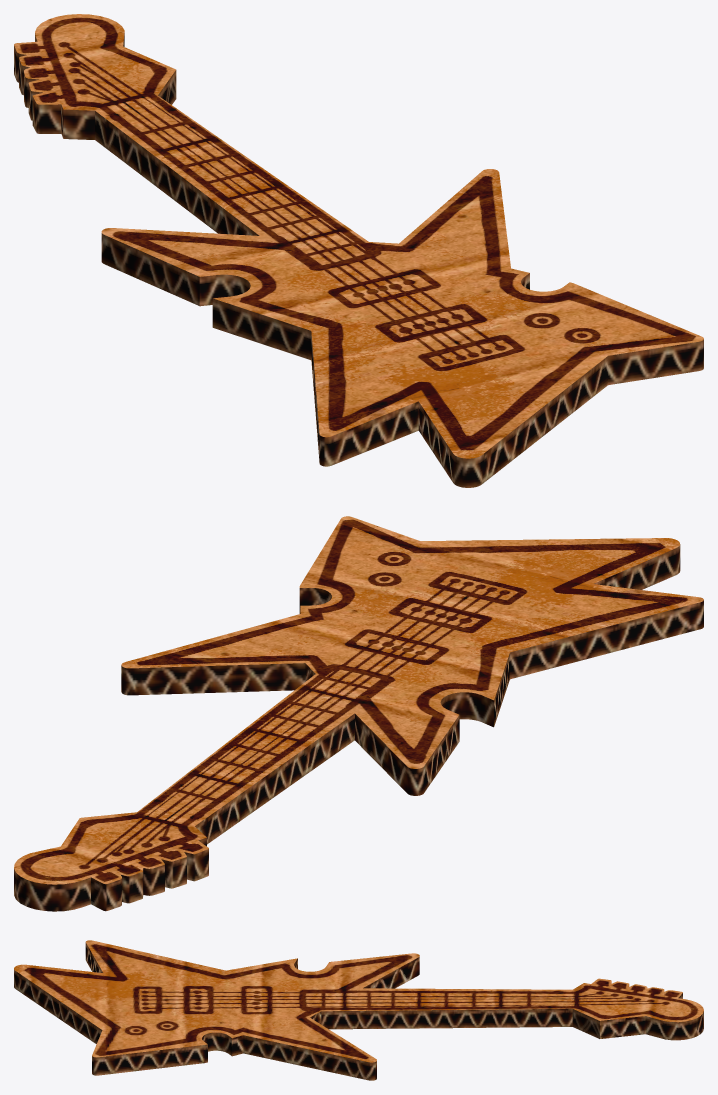
Rendered from guitar_01 (2).fbx.
3 views of the same model, one above another, from view 1: azimuth 30°, elevation 25°; view 2: azimuth 150°, elevation 25°; view 3: azimuth 270°, elevation 25° (orthographic). The views are drawn at different scales.
Visible parts, largest first — view 1: Extruded.001; view 2: Extruded.001; view 3: Extruded.001.
Boxes of the visible parts, bbox=[...] form: Extruded.001: bbox=[14, 14, 703, 487]; Extruded.001: bbox=[14, 516, 703, 911]; Extruded.001: bbox=[14, 940, 703, 1080].
Bounding box in the file's own units: 202 × 14.05 × 482.
1 material, 1 textured.
